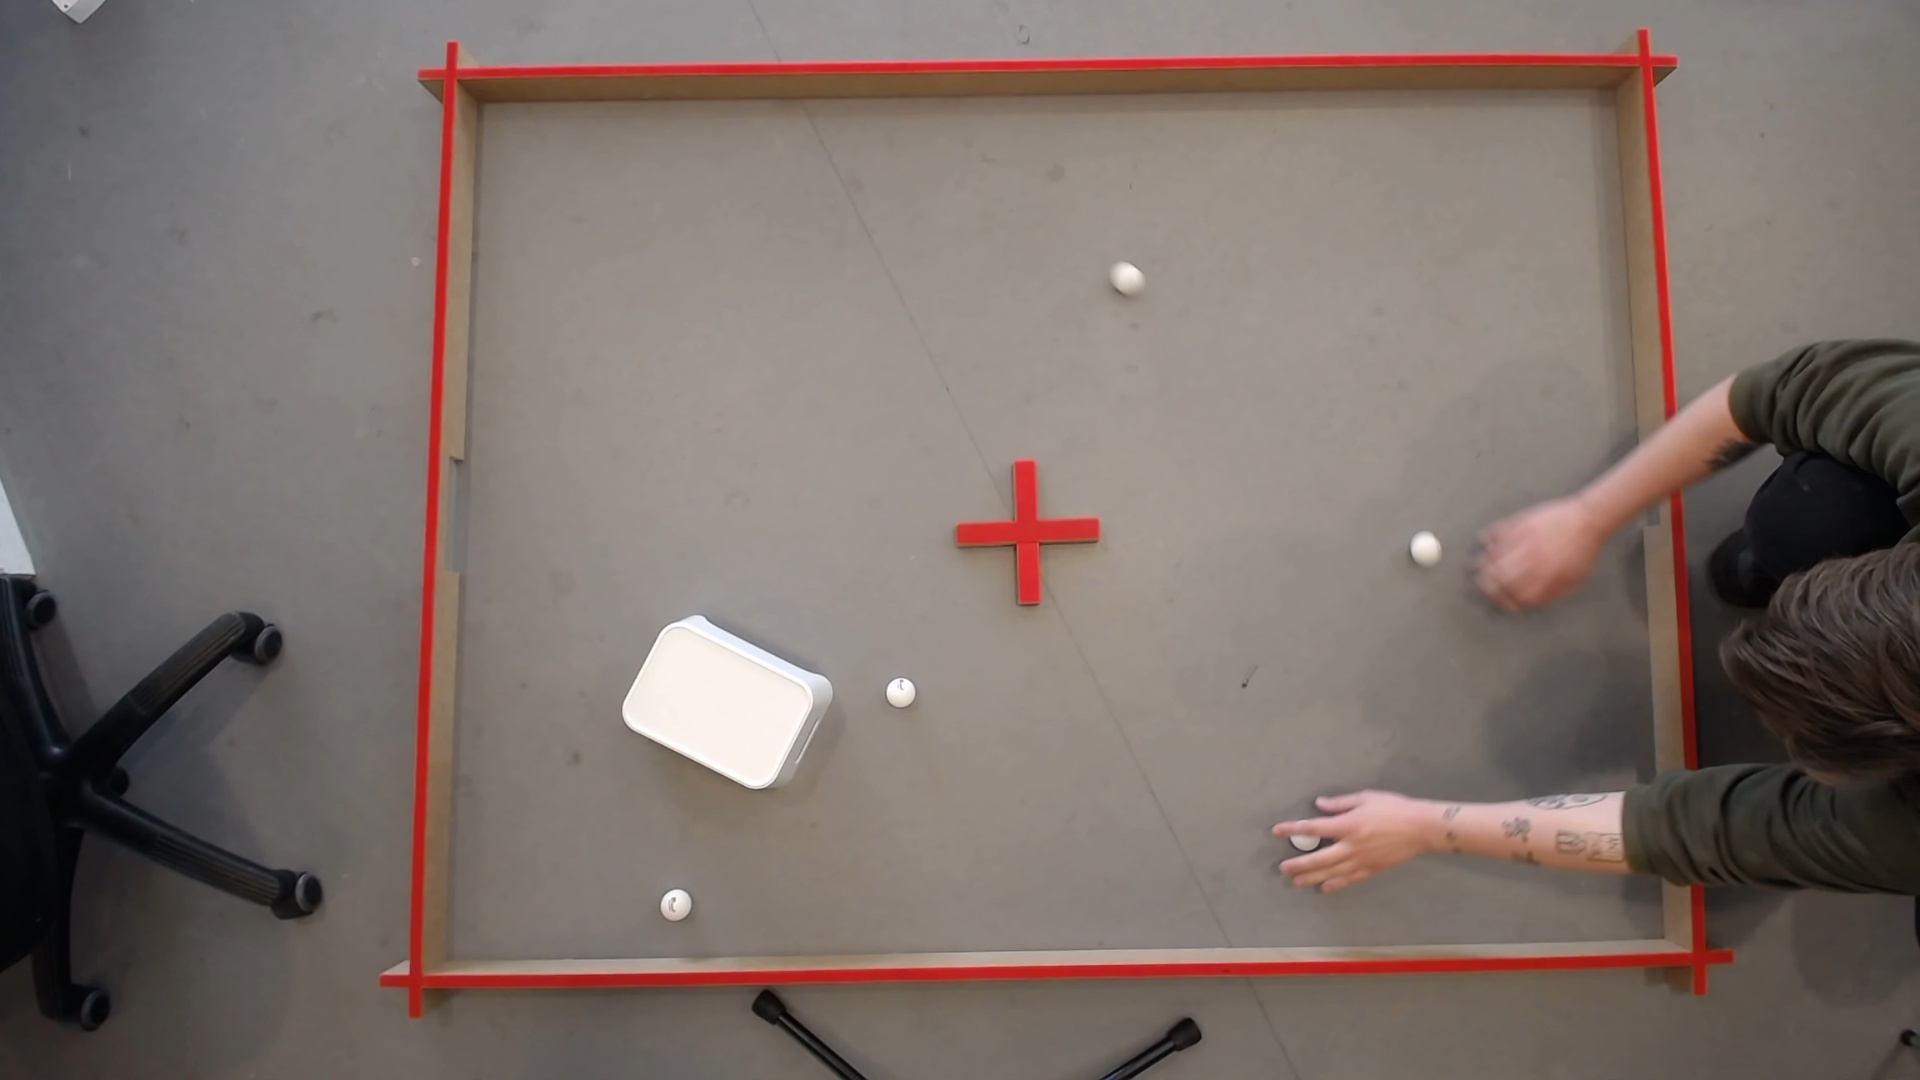balls: (613, 600, 829, 798), (1672, 382, 1730, 429), (1353, 793, 1448, 816), (1524, 498, 1581, 531), (1407, 527, 1443, 563), (884, 675, 916, 704)
car: (1116, 264, 1139, 284)
